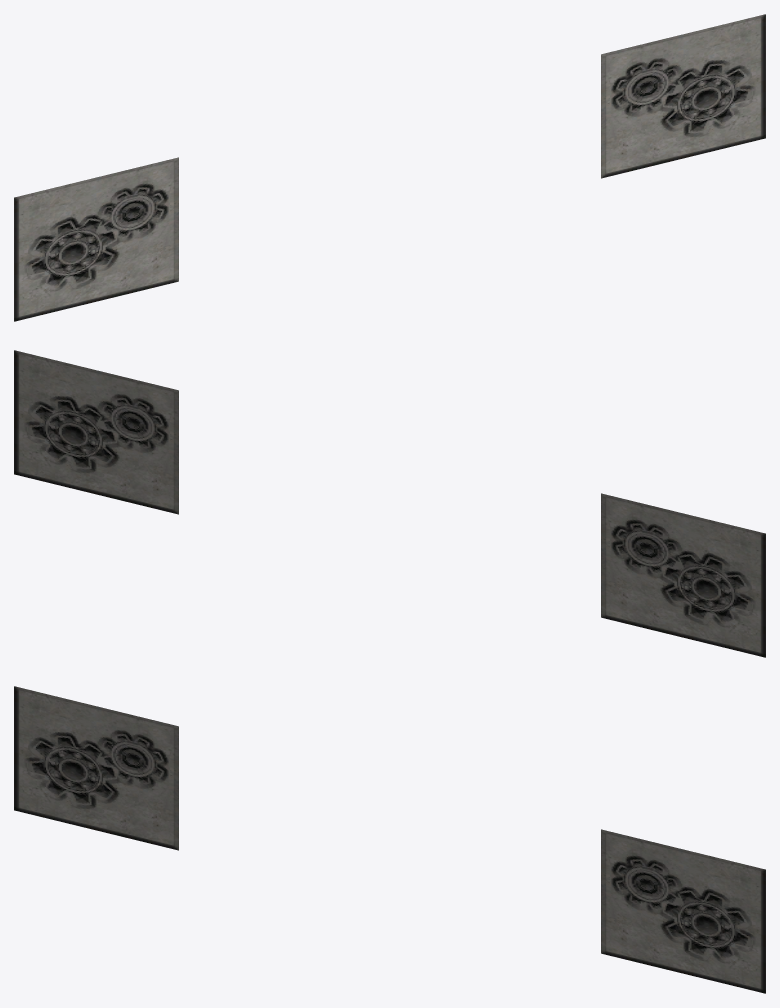
Rendered from DWARF_PALACE_MAINHALL_ICON02.fbx.
The picture shows the model from 3 angles, top to bottom: view 1: azimuth 30°, elevation 25°; view 2: azimuth 150°, elevation 25°; view 3: azimuth 330°, elevation 25°; orthographic projection.
Visible parts, largest first — view 1: DWARF_PALACE_MAINHALL_ICON02; view 2: DWARF_PALACE_MAINHALL_ICON02; view 3: DWARF_PALACE_MAINHALL_ICON02.
Part boxes in pixels (x1,y1,x2,y2): DWARF_PALACE_MAINHALL_ICON02: [14, 14, 765, 321]; DWARF_PALACE_MAINHALL_ICON02: [14, 350, 765, 657]; DWARF_PALACE_MAINHALL_ICON02: [14, 686, 765, 993].
Size of the model in its own units: 114000 by 18000 by 0.2959.
Materials: 1 (1 with a texture image).
